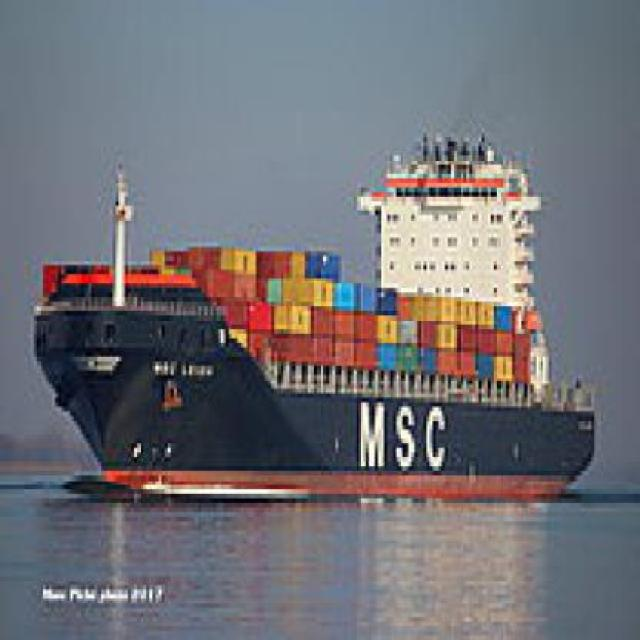container: (19, 111, 611, 514)
